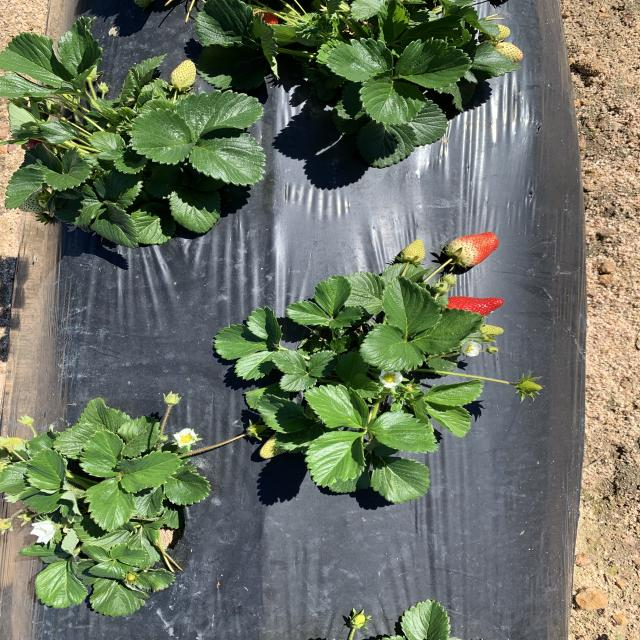unripe: (434, 294, 507, 325), (442, 232, 503, 268), (257, 9, 288, 30)
